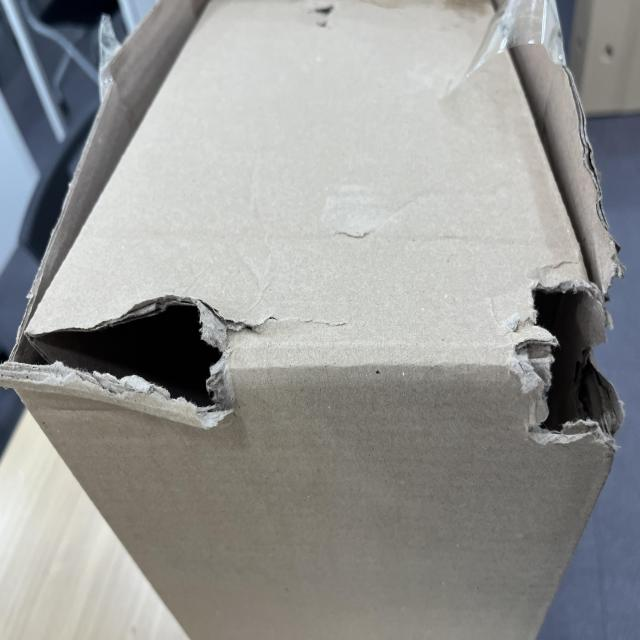damaged: (19, 299, 243, 464), (522, 280, 621, 457)
